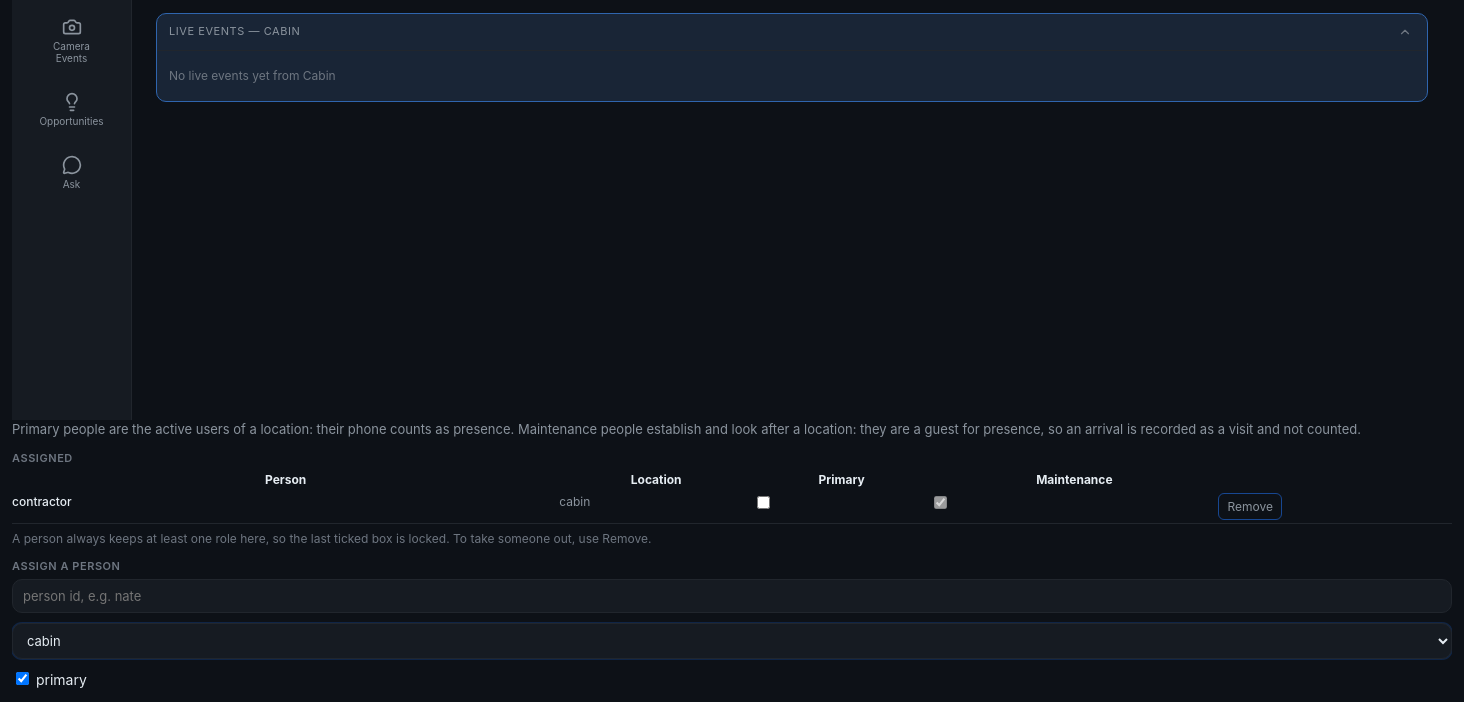
LocationRolesCard safety and repairs (#342 HOLD) › says the same truthful thing for a maintenance person: still counted, flagged until a role is set
(page scrolled)
Click the button with aria-label "Remove contractor at cabin" at [1250, 506], box [1218,493,1282,520]
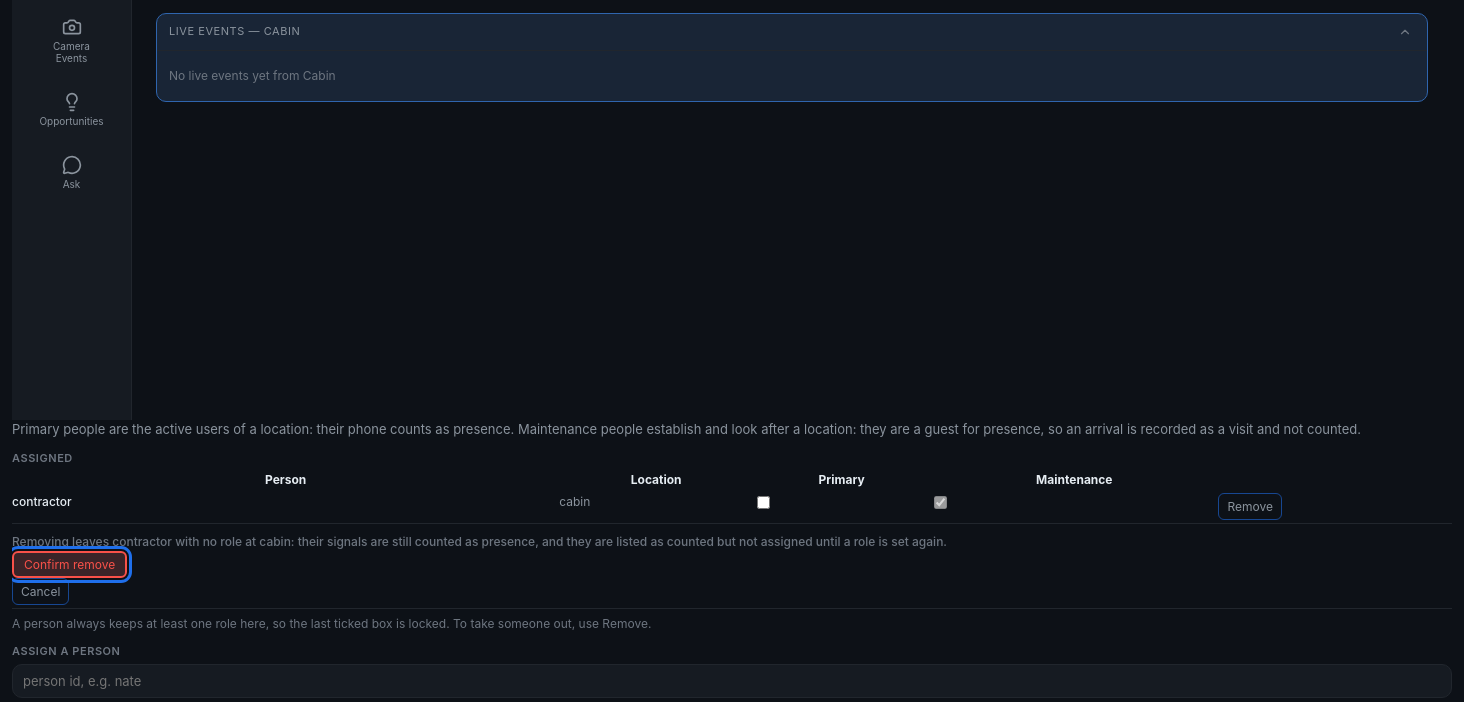
Result: the text "Removing leaves contractor with no role at cabin: their signals are still counted as presence" is shown at [12,534,947,549]
